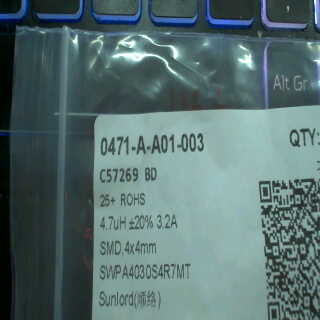4.7uH: (95, 210, 130, 234)
